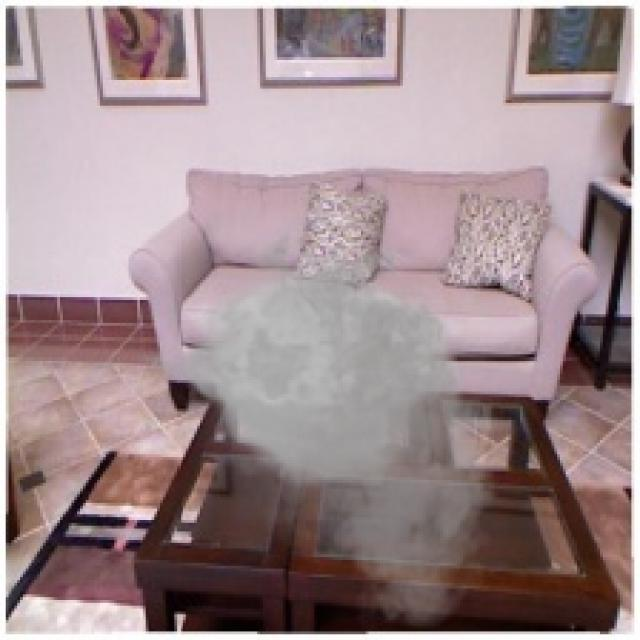Smoke: (131, 217, 506, 634)
